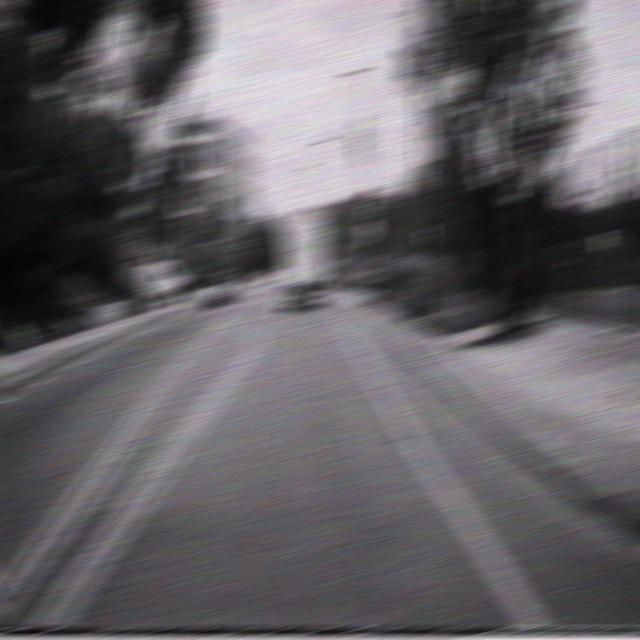stop_sign: (358, 220, 378, 242)
